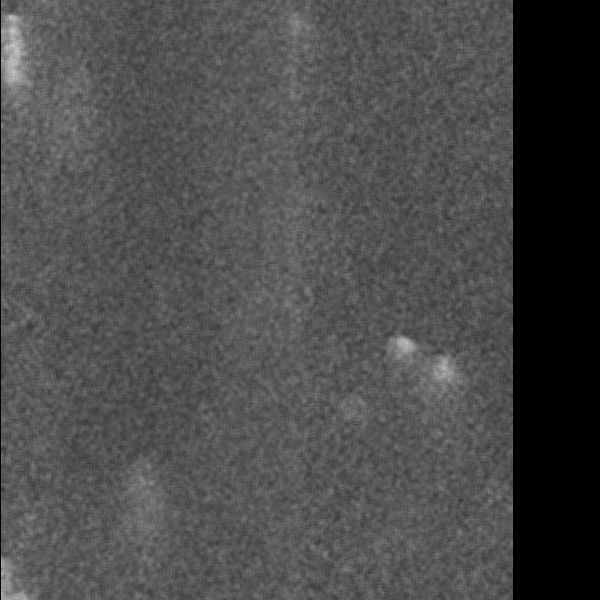spark: (383, 330, 418, 392), (133, 466, 152, 575), (428, 352, 455, 427)
